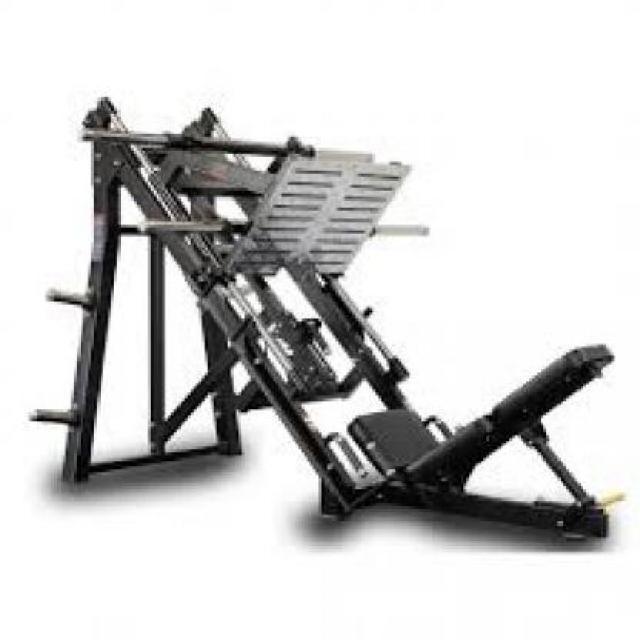leg press: (23, 85, 628, 557)
